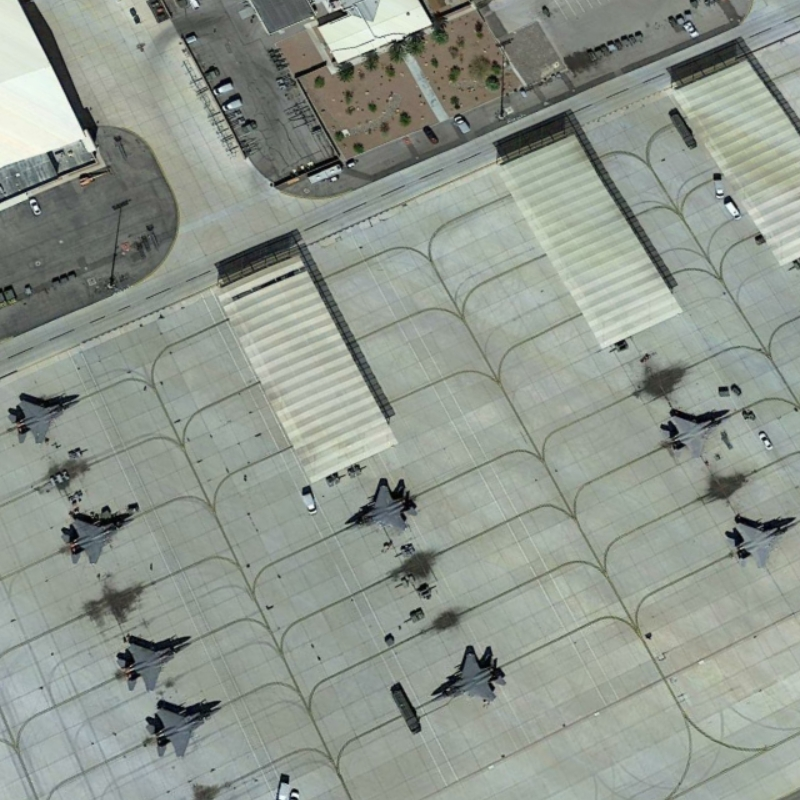A13: (144, 698, 227, 763), (111, 637, 194, 697), (58, 508, 138, 570), (333, 477, 421, 533), (427, 648, 509, 705), (721, 511, 800, 570), (657, 405, 737, 462), (5, 390, 85, 445)
